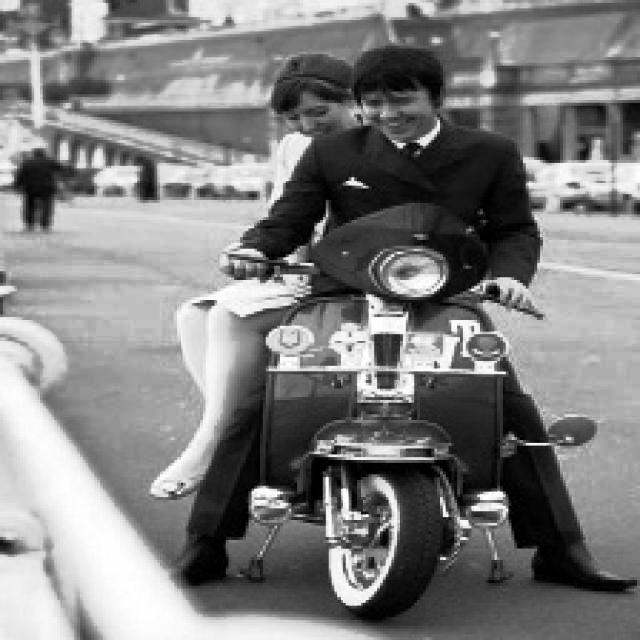Bike: (251, 238, 527, 614)
